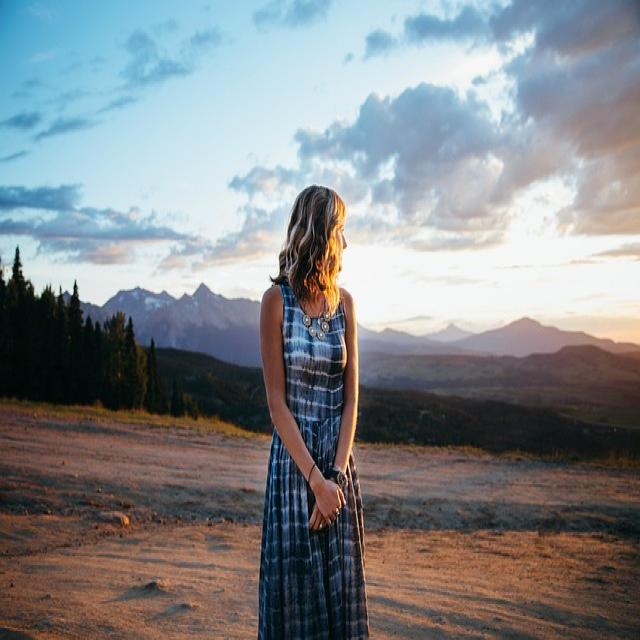Real human 2: (249, 177, 389, 640)
